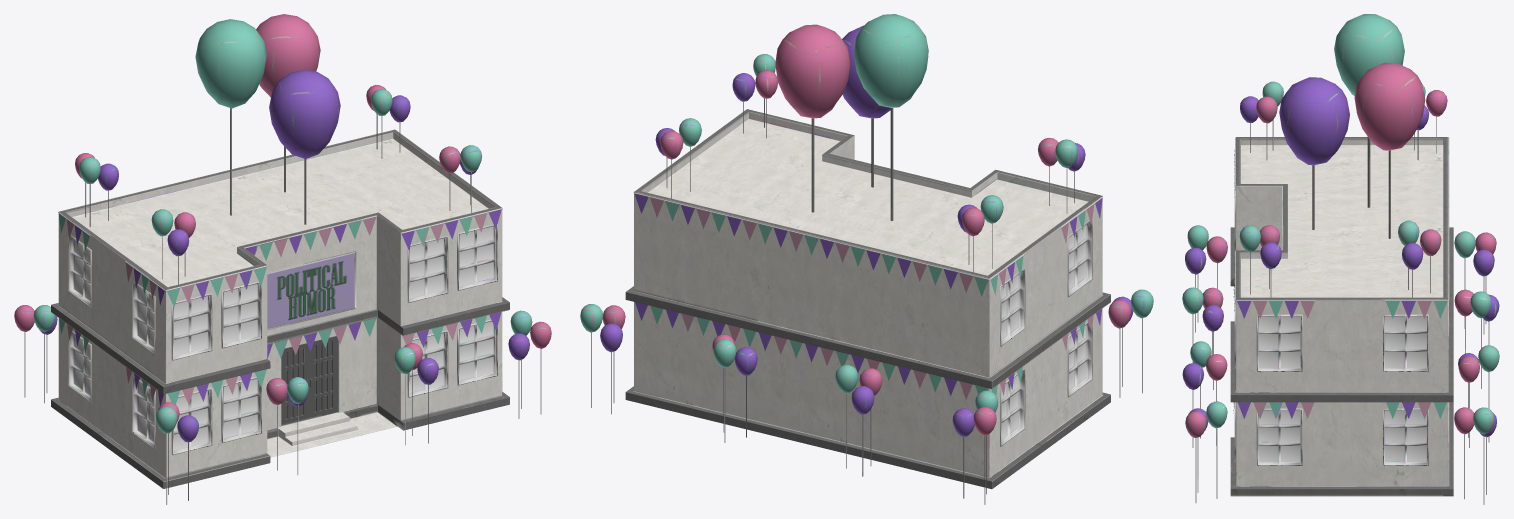
File: BUILDING_PoliticalHumor_3.fbx
The picture shows the model from 3 angles, left to right: view 1: azimuth 30°, elevation 25°; view 2: azimuth 150°, elevation 25°; view 3: azimuth 270°, elevation 25°; orthographic projection. The views are drawn at different scales.
Parts seen in each view (by area): view 1: BUILDING_PoliticalHumor_3_Baked; view 2: BUILDING_PoliticalHumor_3_Baked; view 3: BUILDING_PoliticalHumor_3_Baked.
Part boxes in pixels (x1,y1,x2,y2): BUILDING_PoliticalHumor_3_Baked: (14, 14, 551, 504); BUILDING_PoliticalHumor_3_Baked: (580, 14, 1153, 504); BUILDING_PoliticalHumor_3_Baked: (1182, 14, 1499, 504).
Size of the model in its own units: 183 by 169 by 128.
1 material, 1 textured.
